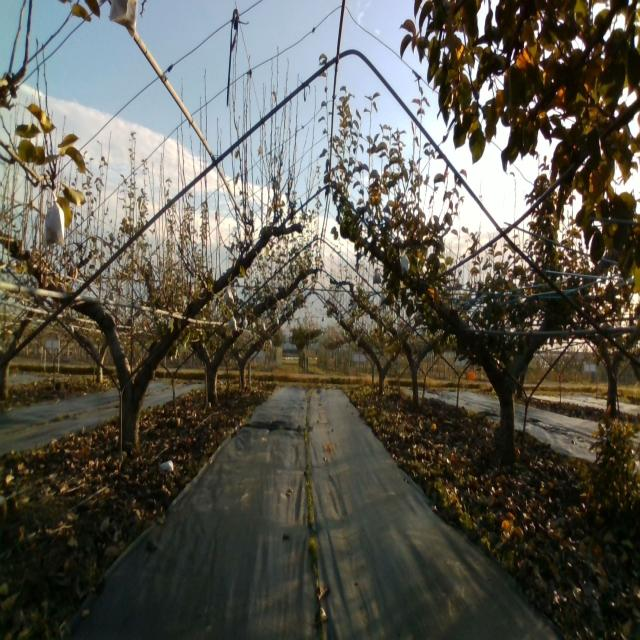pearbags: (42, 196, 65, 248)
